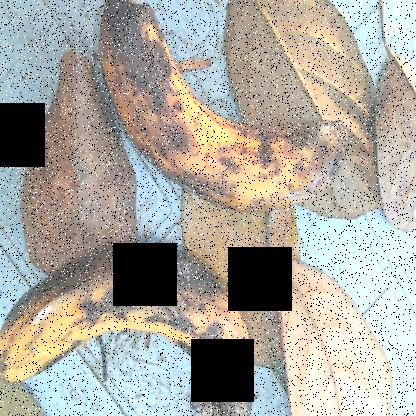overripe: (70, 0, 367, 226), (0, 233, 274, 415)
